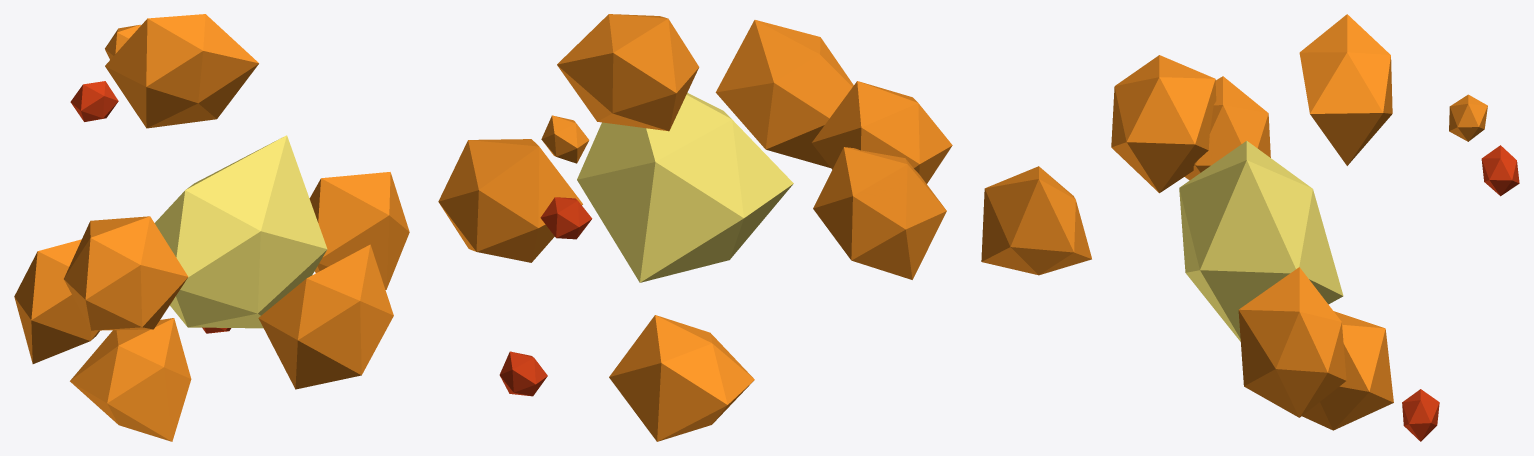
The model's file is frame_6.glb.
3 renders of one model, left to right at view 1: azimuth 30°, elevation 25°; view 2: azimuth 150°, elevation 25°; view 3: azimuth 270°, elevation 25°, orthographic. The views are drawn at different scales.
Parts seen in each view (by area): view 1: effect_explosion_small_frame_6; view 2: effect_explosion_small_frame_6; view 3: effect_explosion_small_frame_6.
Boxes of the visible parts, <box> form: effect_explosion_small_frame_6: <box>14,14,409,441</box>; effect_explosion_small_frame_6: <box>438,14,952,441</box>; effect_explosion_small_frame_6: <box>981,14,1519,441</box>.
Size of the model in its own units: 8.36 by 7.57 by 9.06.
